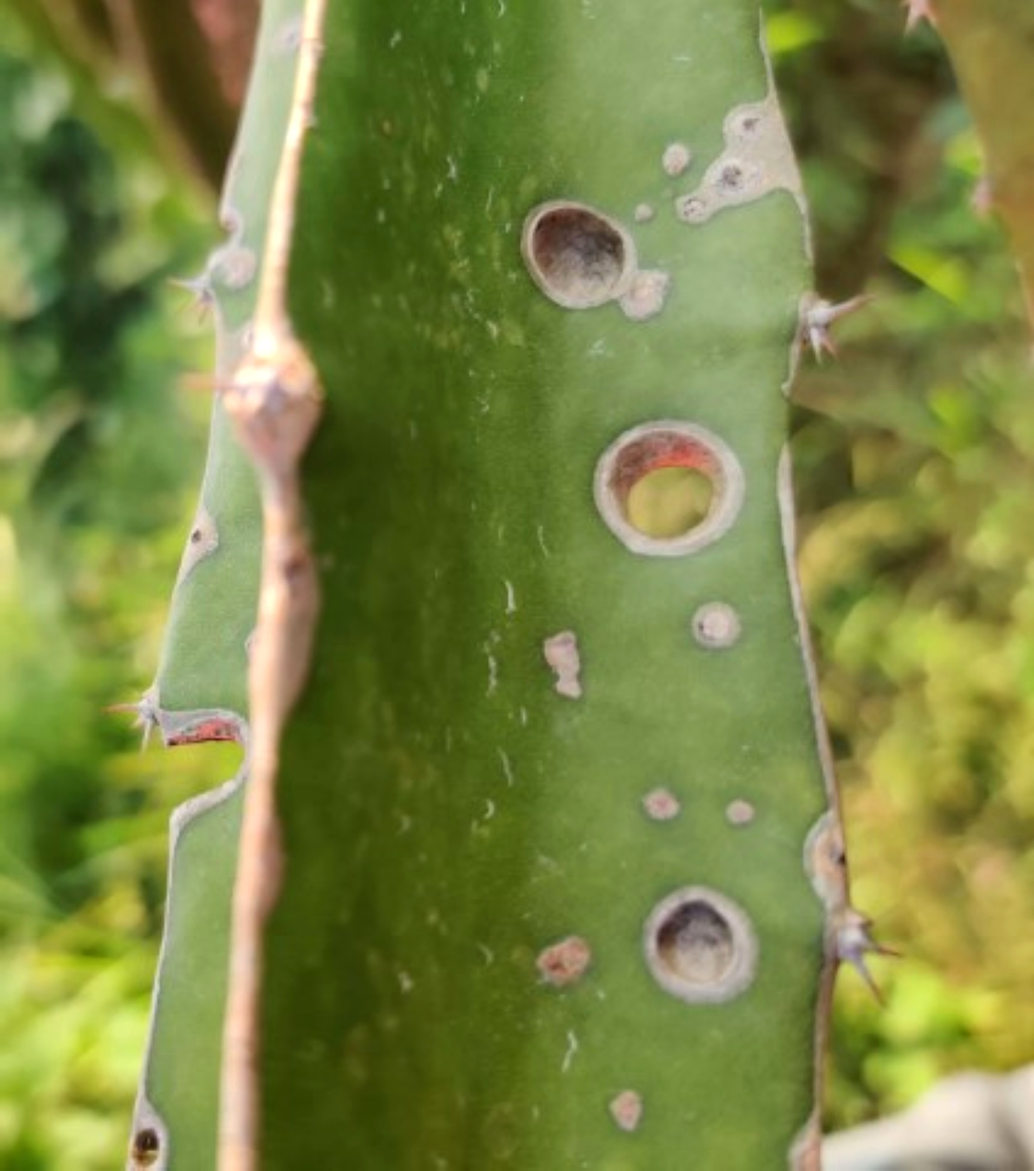stemcanker: (414, 59, 896, 1131)
